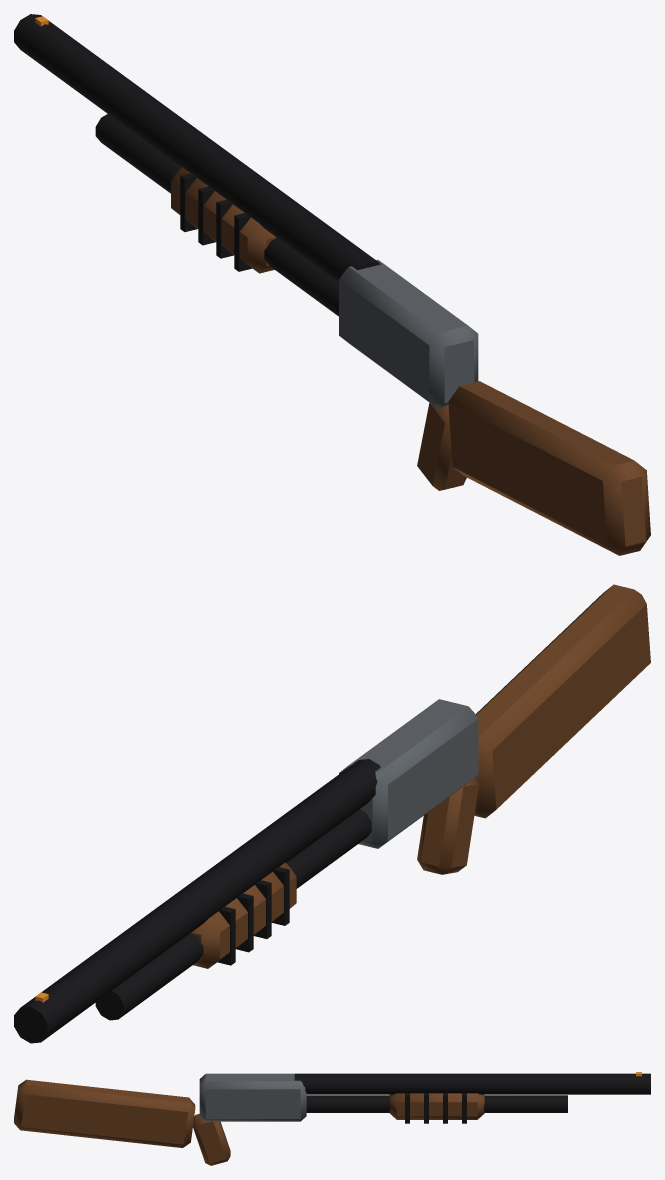
Rendered from shotgun.glb.
The picture shows the model from 3 angles, top to bottom: view 1: azimuth 30°, elevation 25°; view 2: azimuth 150°, elevation 25°; view 3: azimuth 270°, elevation 25°; orthographic projection. The views are drawn at different scales.
Parts seen in each view (by area): view 1: shotgun__Body; view 2: shotgun__Body; view 3: shotgun__Body.
Boxes of the visible parts, box(x1,y1,x2,y2) form: shotgun__Body: box(14, 14, 650, 555); shotgun__Body: box(14, 584, 650, 1043); shotgun__Body: box(14, 1072, 650, 1165).
Bounding box in the file's own units: 0.052 × 0.1683 × 1.07.
